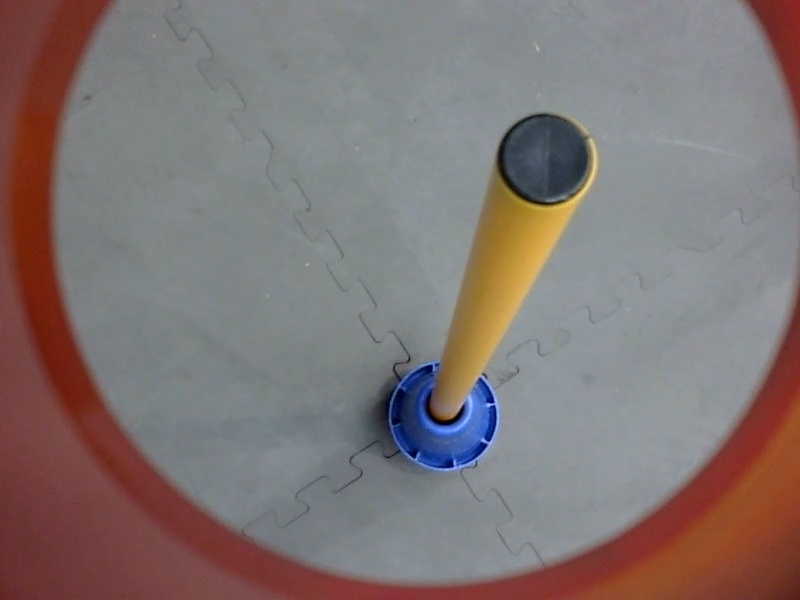tip: (489, 104, 605, 217)
